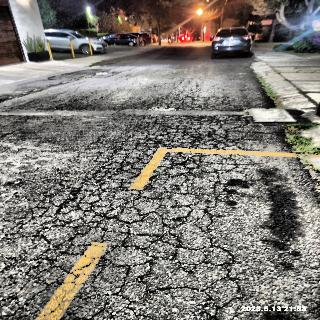alligator-crack: (14, 201, 237, 320), (144, 119, 237, 231), (78, 129, 142, 232), (0, 225, 57, 320)
